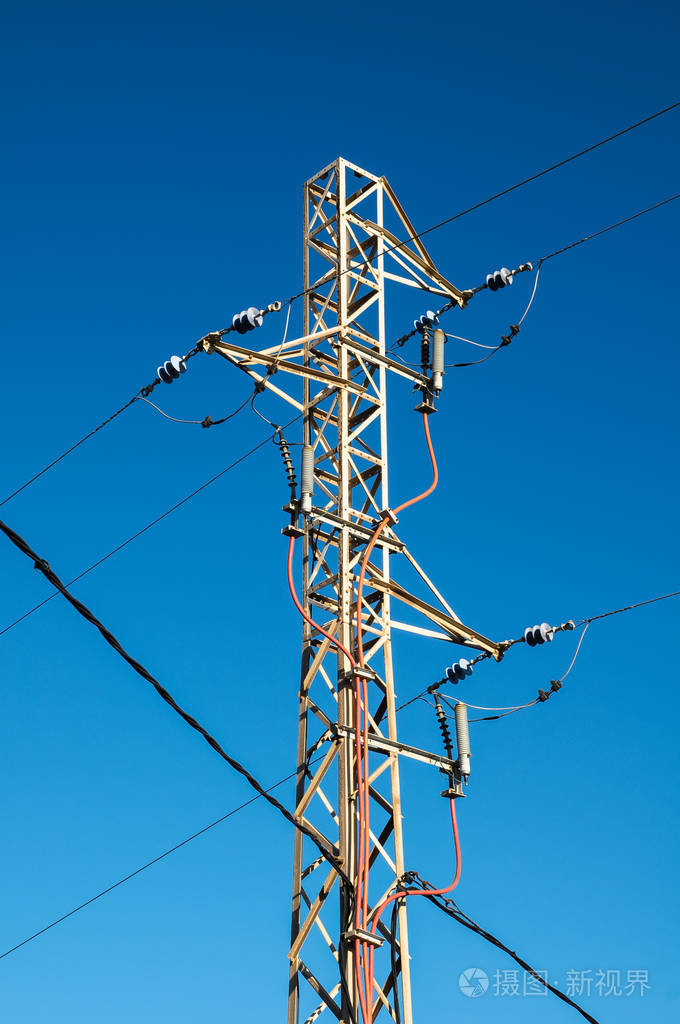insulator: (483, 264, 517, 296), (155, 353, 190, 384), (230, 308, 266, 335), (518, 624, 555, 647), (439, 659, 474, 683), (414, 308, 440, 338)
